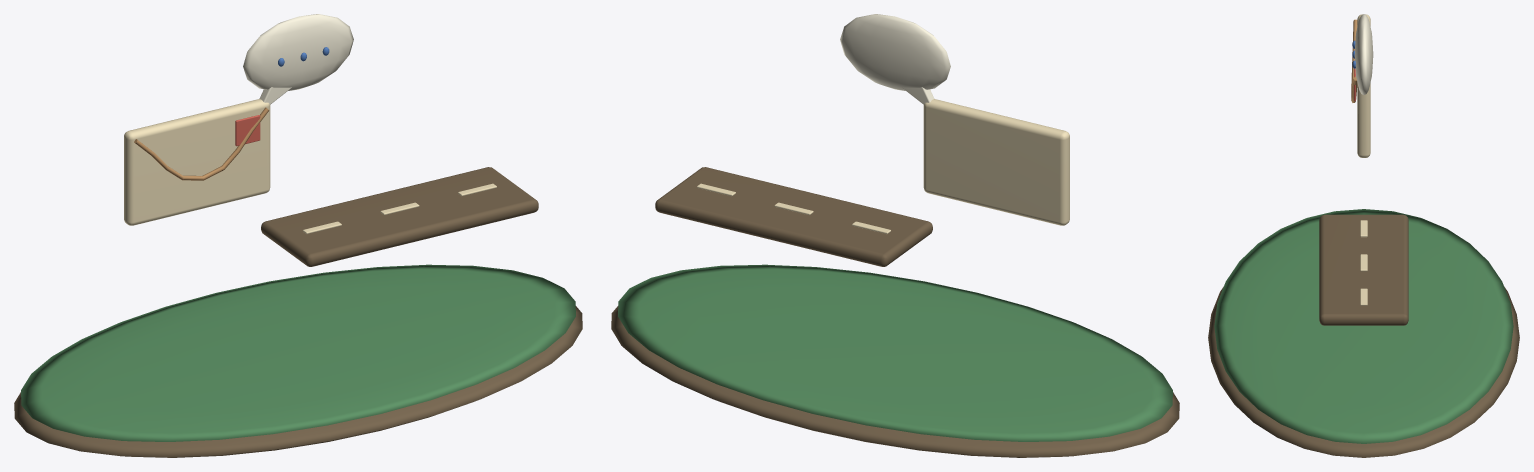
File: complete-second-report-route.glb
3 renders of one model, left to right at view 1: azimuth 30°, elevation 25°; view 2: azimuth 150°, elevation 25°; view 3: azimuth 270°, elevation 25°, orthographic. The views are drawn at different scales.
Visible parts, largest first — view 1: complete-second-report-route_surface_01, complete-second-report-route_surface_00, complete-second-report-route_surface_02, complete-second-report-route_surface_05, complete-second-report-route_surface_03, complete-second-report-route_surface_04; view 2: complete-second-report-route_surface_01, complete-second-report-route_surface_00, complete-second-report-route_surface_02, complete-second-report-route_surface_05; view 3: complete-second-report-route_surface_01, complete-second-report-route_surface_00, complete-second-report-route_surface_02, complete-second-report-route_surface_05.
Boxes of the visible parts, left/top/right/bottom form: complete-second-report-route_surface_01: left=21, top=264, right=575, bottom=441; complete-second-report-route_surface_00: left=14, top=167, right=582, bottom=457; complete-second-report-route_surface_02: left=124, top=99, right=496, bottom=233; complete-second-report-route_surface_05: left=243, top=14, right=353, bottom=104; complete-second-report-route_surface_03: left=134, top=107, right=268, bottom=180; complete-second-report-route_surface_04: left=235, top=115, right=260, bottom=146; complete-second-report-route_surface_01: left=618, top=264, right=1172, bottom=441; complete-second-report-route_surface_00: left=611, top=167, right=1179, bottom=457; complete-second-report-route_surface_02: left=697, top=99, right=1069, bottom=233; complete-second-report-route_surface_05: left=840, top=14, right=950, bottom=104; complete-second-report-route_surface_01: left=1214, top=209, right=1513, bottom=443; complete-second-report-route_surface_00: left=1208, top=214, right=1519, bottom=457; complete-second-report-route_surface_02: left=1357, top=14, right=1370, bottom=305; complete-second-report-route_surface_05: left=1354, top=14, right=1373, bottom=94.
Bounding box in the file's own units: 4.56 × 2.93 × 2.5.
